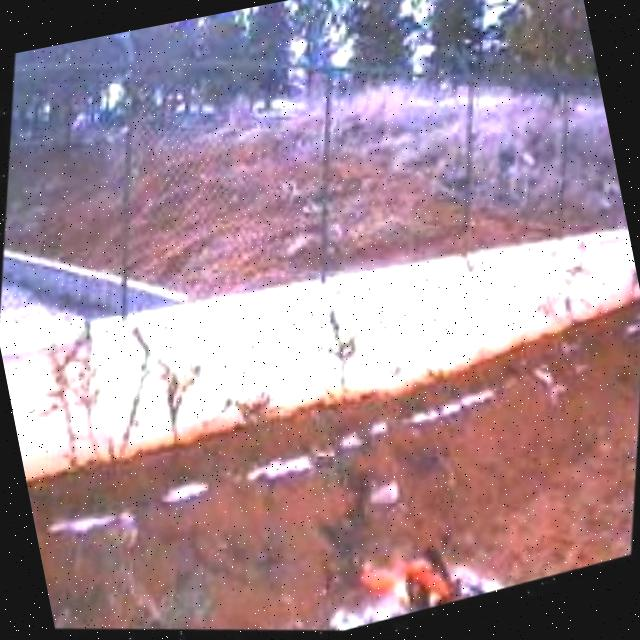fire: (342, 527, 464, 619)
